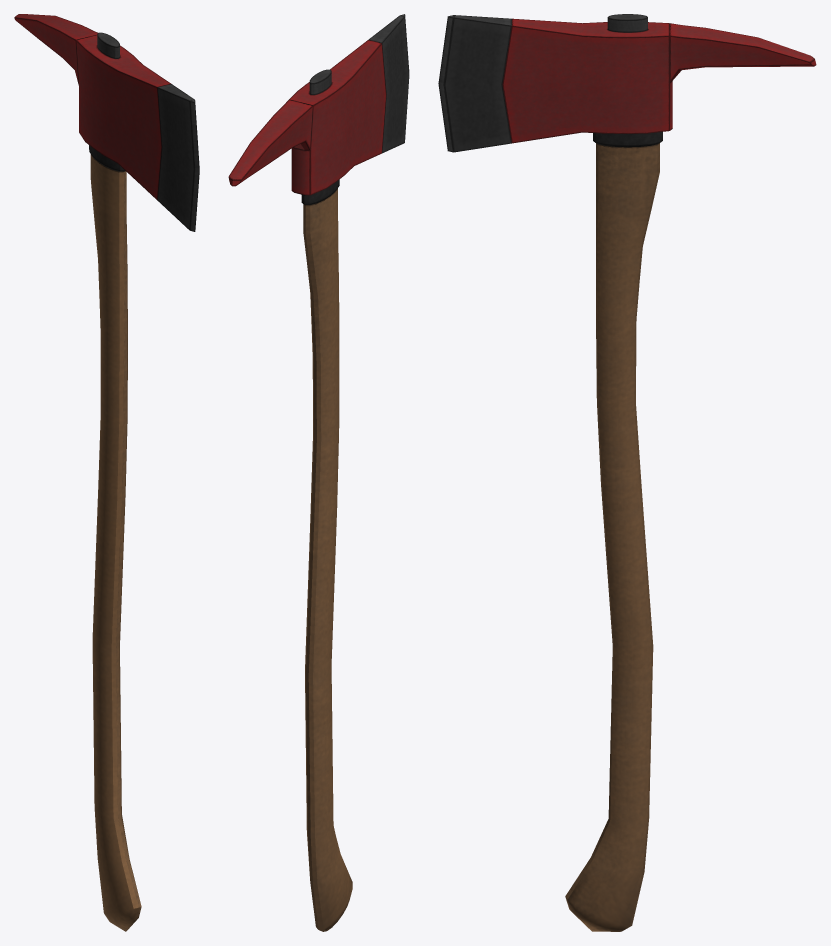
Rendered from Prop_FireAxe_model.fbx.
3 views of the same model, side by side, from view 1: azimuth 30°, elevation 25°; view 2: azimuth 150°, elevation 25°; view 3: azimuth 270°, elevation 25° (orthographic). The views are drawn at different scales.
Visible parts, largest first — view 1: Prop_FireAxe_model; view 2: Prop_FireAxe_model; view 3: Prop_FireAxe_model.
Boxes of the visible parts, left/top/right/bottom form: Prop_FireAxe_model: left=14, top=14, right=199, bottom=931; Prop_FireAxe_model: left=228, top=14, right=409, bottom=931; Prop_FireAxe_model: left=438, top=14, right=816, bottom=931.
Bounding box in the file's own units: 0.0333 × 0.914 × 0.3421.
1 material, 1 textured.
